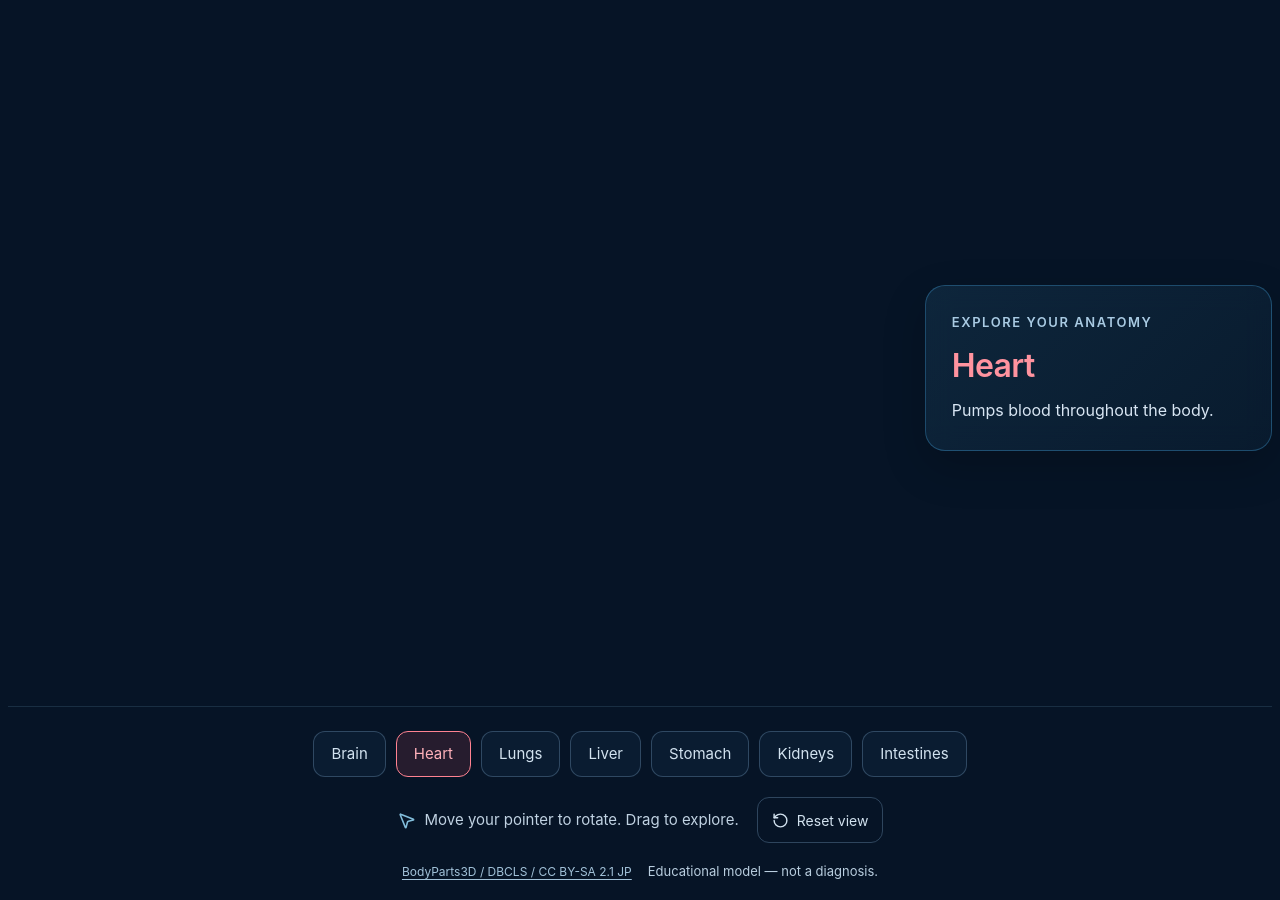
Test: loads matching assets, enables only supported organs, and preserves keyboard selection in Hindi
This screenshot has width=1280, height=900.
Expected: the button "Brain" is shown, [313,731,386,777]
Click the button "Kidneys" at (806, 754), box [759,731,852,777]
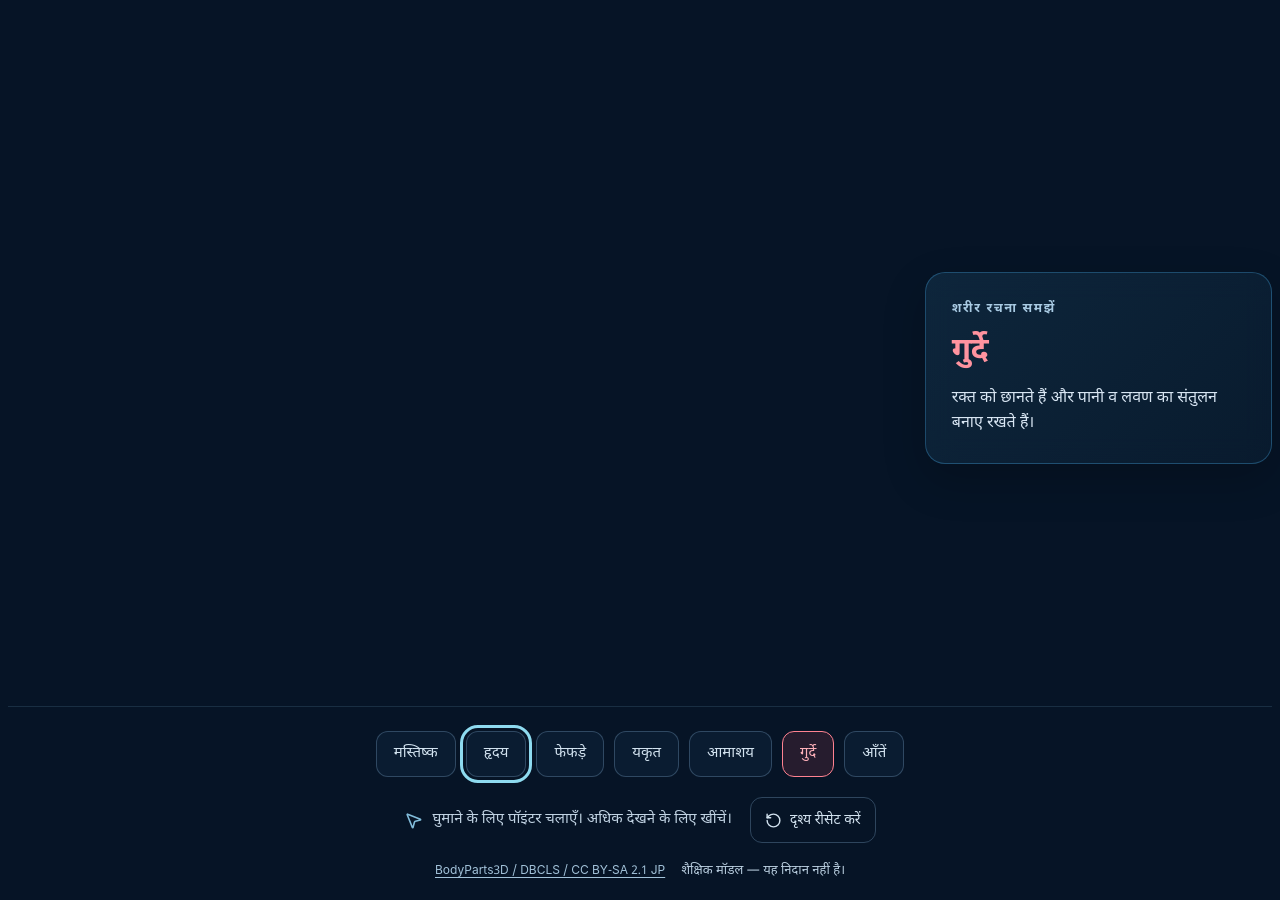
Expected: the text "Filter blood and regulate water and salts." is shown, [952,386,1245,437]
Press Enter
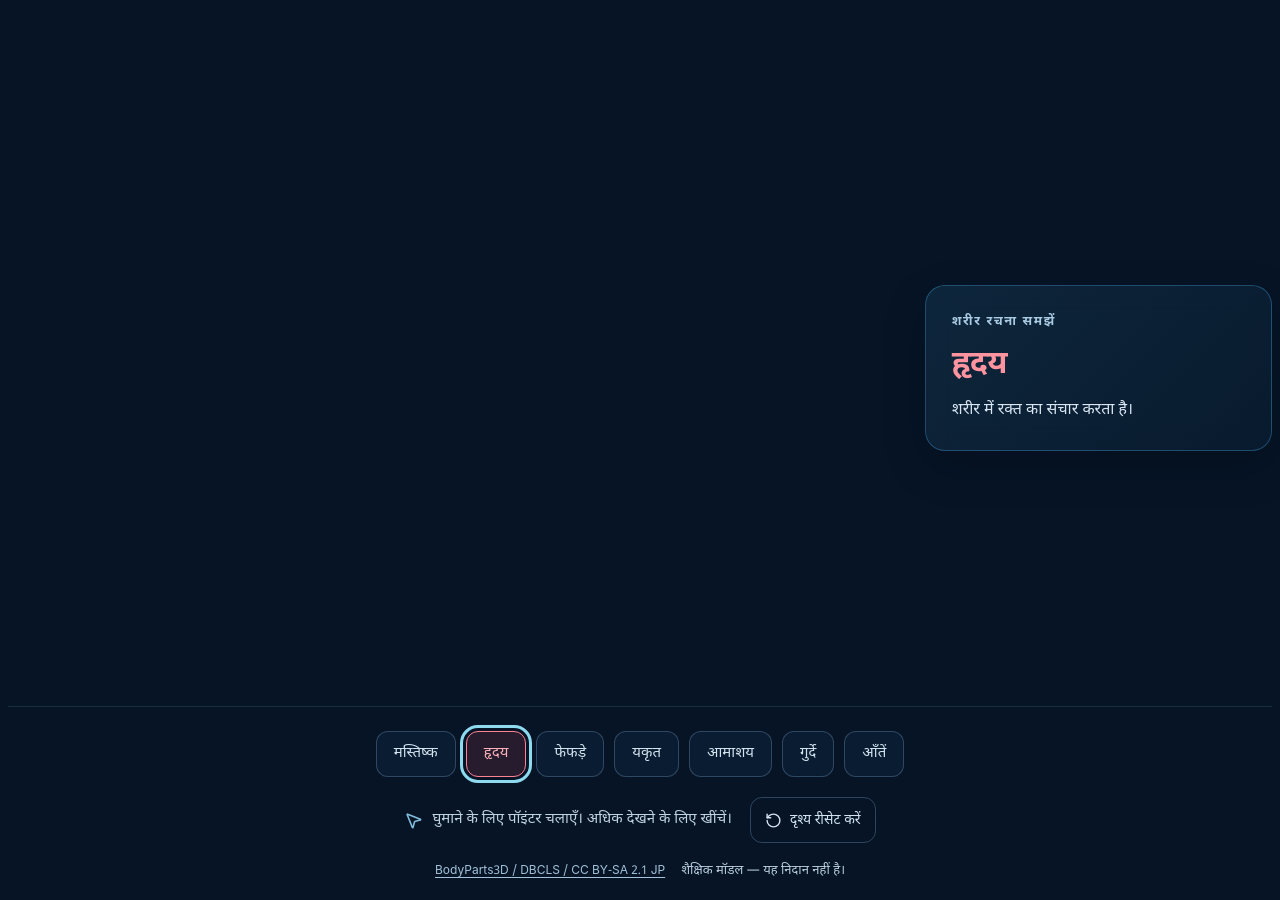
Expected: the text "शरीर में रक्त का संचार करता है।" is shown, [952,400,1133,421]
